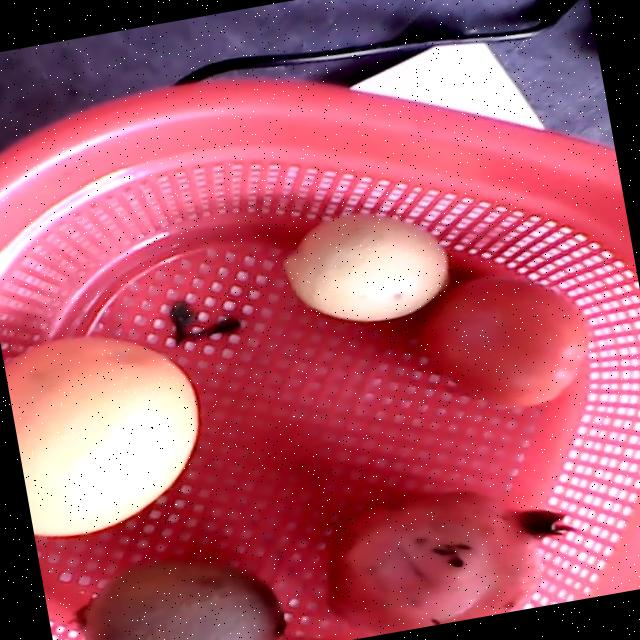kiwi: (72, 557, 289, 640)
lemon: (286, 212, 448, 324)
orange: (12, 337, 198, 537)
pomegranate: (323, 492, 573, 637)
tomato: (419, 273, 590, 406)
